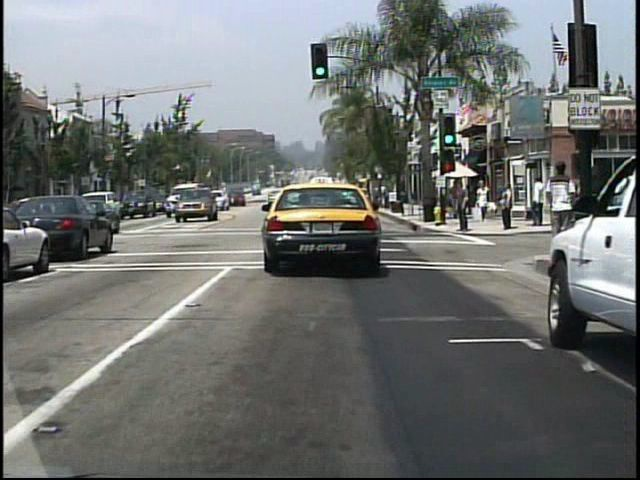person: (544, 157, 580, 261), (455, 182, 472, 236), (502, 182, 520, 230), (448, 180, 466, 226), (532, 176, 546, 227), (479, 180, 495, 223)
